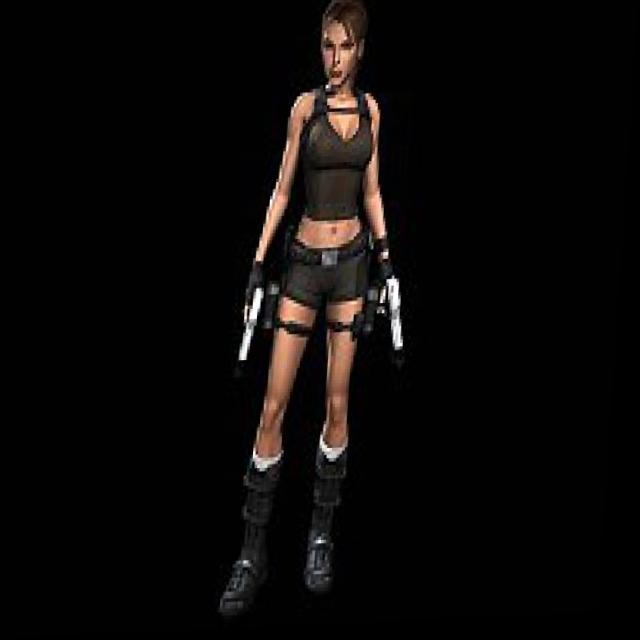handgun: (378, 271, 419, 354), (238, 276, 273, 365)
